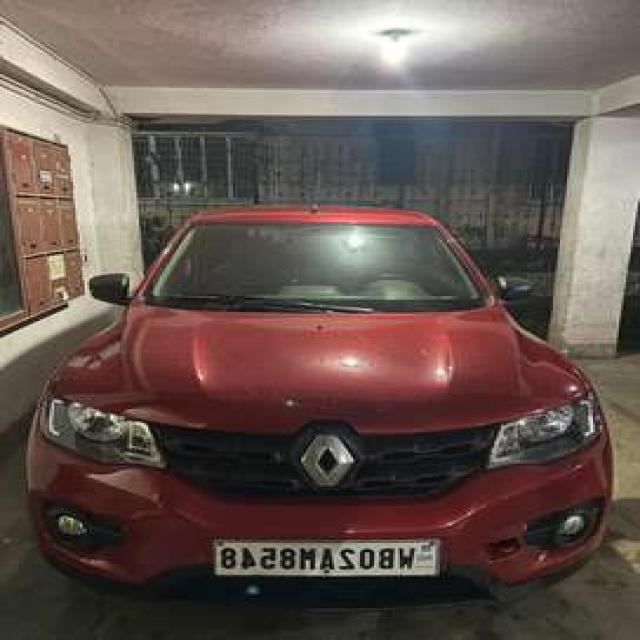license_plate: (205, 532, 445, 584)
